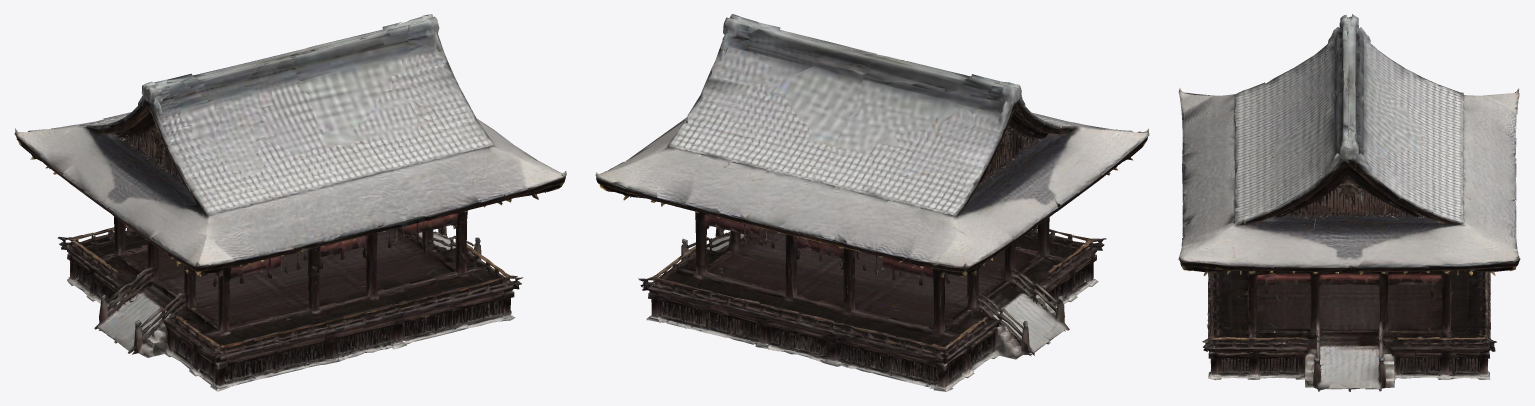
Rendered from dojo.glb.
3 views of the same model, side by side, from view 1: azimuth 30°, elevation 25°; view 2: azimuth 150°, elevation 25°; view 3: azimuth 270°, elevation 25° (orthographic). The views are drawn at different scales.
Parts seen in each view (by area): view 1: Mesh_0; view 2: Mesh_0; view 3: Mesh_0.
Part boxes in pixels (x1,y1,x2,y2): Mesh_0: (14,14,566,391); Mesh_0: (595,14,1149,391); Mesh_0: (1178,14,1520,391).
Bounding box in the file's own units: 14.01 × 9.07 × 11.99.
Materials: 1 (1 with a texture image).
